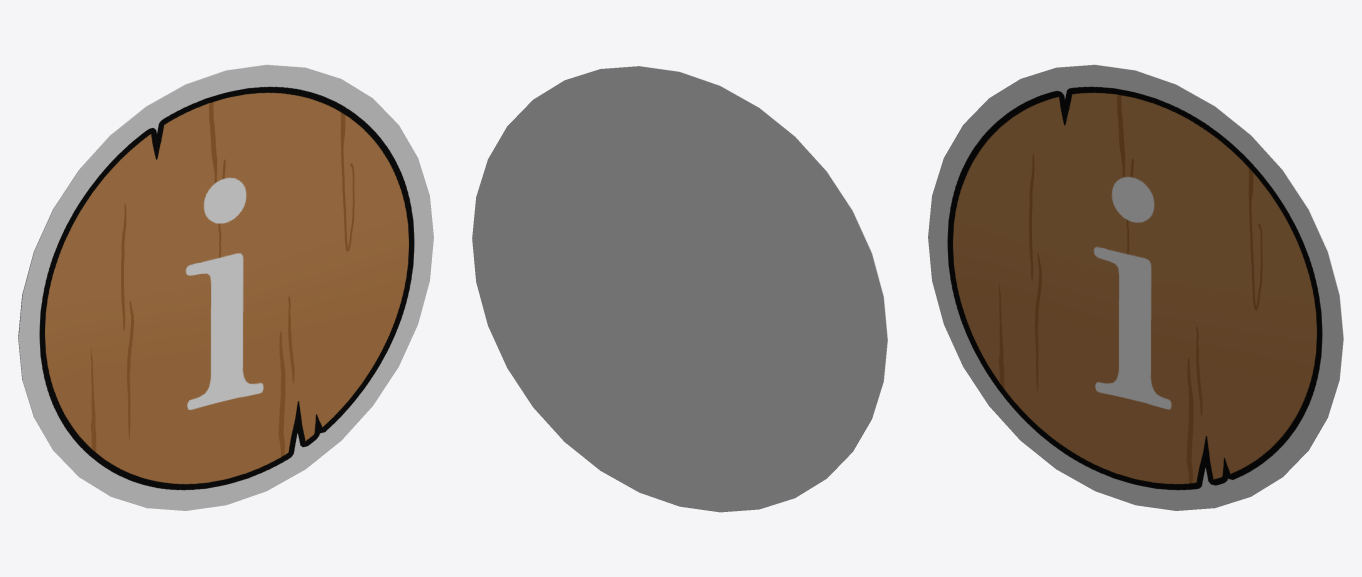
Rendered from Button_Info.glb.
3 views of the same model, side by side, from view 1: azimuth 30°, elevation 25°; view 2: azimuth 150°, elevation 25°; view 3: azimuth 330°, elevation 25° (orthographic).
Visible parts, largest first — view 1: Empty.001, Cylinder; view 2: Cylinder; view 3: Empty.001, Cylinder.
Part boxes in pixels (x1,y1,x2,y2): Empty.001: [39, 86, 414, 490]; Cylinder: [18, 64, 433, 510]; Cylinder: [472, 66, 887, 512]; Empty.001: [947, 86, 1322, 490]; Cylinder: [928, 64, 1343, 510].
Bounding box in the file's own units: 5 × 5 × 0.0241.
Materials: 2 (1 with a texture image).
